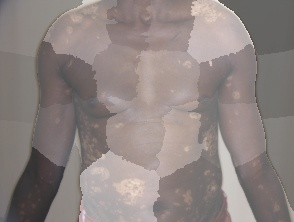vitiligo: (159, 109, 243, 222), (74, 103, 148, 220), (33, 1, 114, 52), (182, 0, 237, 31)
